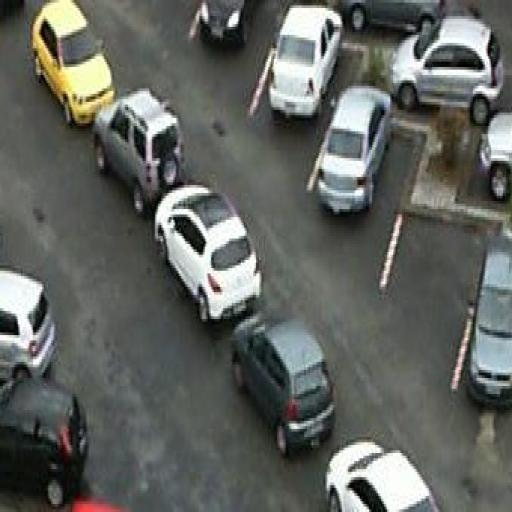car: (227, 311, 339, 461), (154, 182, 265, 330), (388, 13, 510, 129), (0, 372, 93, 509), (93, 86, 187, 217), (313, 83, 395, 220), (32, 0, 118, 129), (324, 434, 442, 512), (268, 2, 345, 120), (467, 233, 512, 416), (0, 266, 57, 392), (336, 0, 449, 43), (196, 0, 266, 59), (479, 107, 512, 209)
